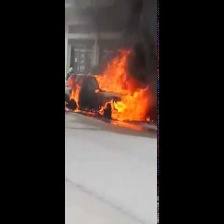fire: (99, 52, 152, 125), (68, 67, 88, 114)
smoke: (89, 1, 156, 69)
